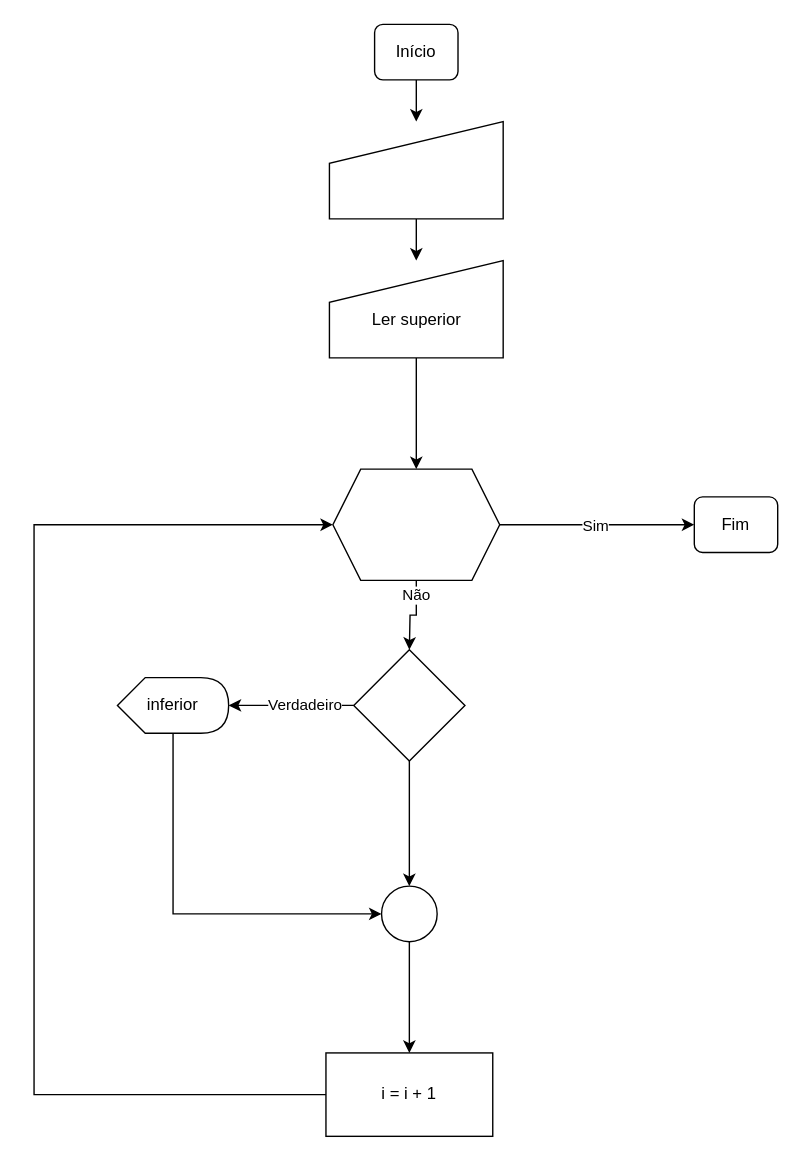
Image size: 802x1161. Some labels were removed from this diagram. The centre of each missing label's shape, as x and y in pixels:
"inferior > 0" goes at (408,704).
"inferior > superior?" goes at (416,524).
"Ler inferior(nº inteiro)" goes at (415,169).
